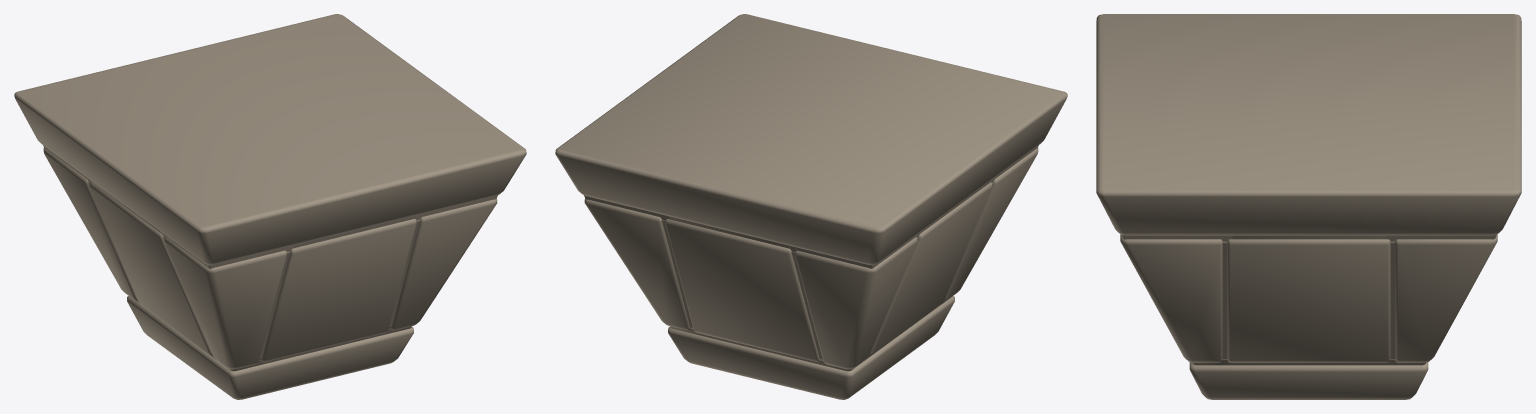
File: altar.glb
3 views of the same model, side by side, from view 1: azimuth 30°, elevation 25°; view 2: azimuth 150°, elevation 25°; view 3: azimuth 270°, elevation 25° (orthographic). The views are drawn at different scales.
Parts seen in each view (by area): view 1: FtrAltar_node1; view 2: FtrAltar_node1; view 3: FtrAltar_node1.
Part boxes in pixels (<box>): FtrAltar_node1: <box>14,14,526,399</box>; FtrAltar_node1: <box>555,14,1067,399</box>; FtrAltar_node1: <box>1096,14,1521,399</box>.
Bounding box in the file's own units: 15.66 × 10.39 × 15.66.
